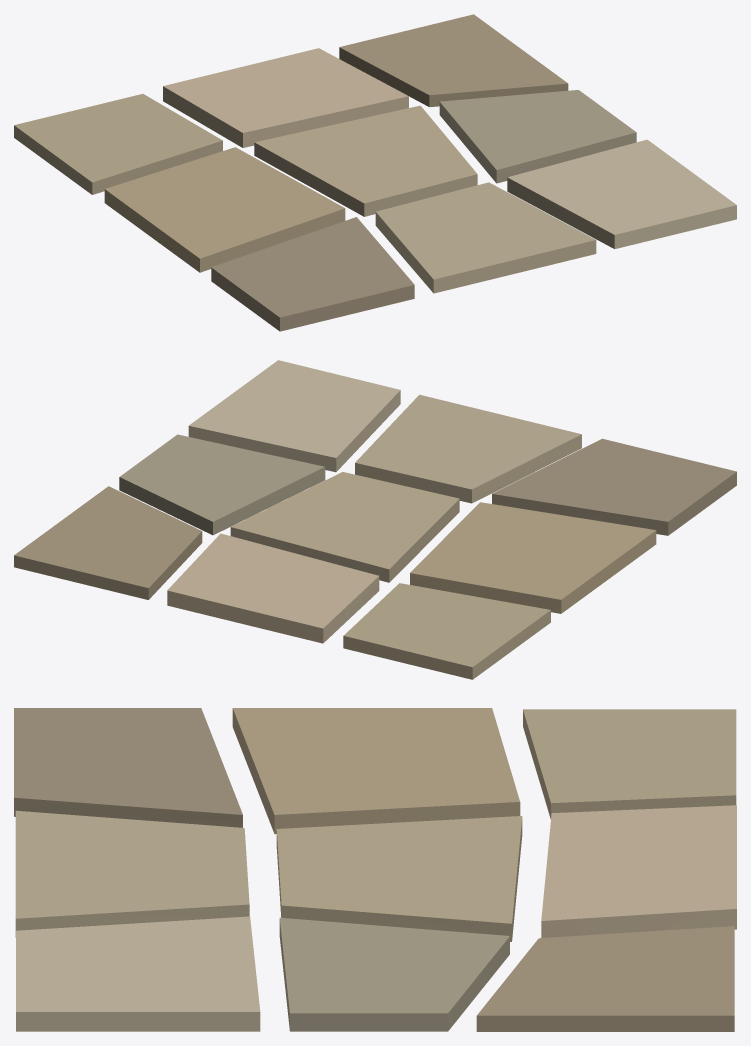
The model's file is HD_Flagstones.glb.
The picture shows the model from 3 angles, top to bottom: view 1: azimuth 30°, elevation 25°; view 2: azimuth 150°, elevation 25°; view 3: azimuth 270°, elevation 25°; orthographic projection. The views are drawn at different scales.
Parts seen in each view (by area): view 1: HD_Flagstones_1_Concrete; view 2: HD_Flagstones_1_Concrete; view 3: HD_Flagstones_1_Concrete.
Boxes of the visible parts, box(x1,y1,x2,y2) form: HD_Flagstones_1_Concrete: box(14, 14, 736, 331); HD_Flagstones_1_Concrete: box(14, 360, 736, 679); HD_Flagstones_1_Concrete: box(14, 708, 736, 1031).
Size of the model in its own units: 7.7 by 0.2418 by 7.71.
